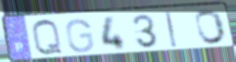3: (132, 13, 158, 50)
4: (99, 15, 129, 52)
G: (64, 18, 96, 54)
I: (164, 11, 179, 49)
O: (194, 8, 228, 46)
Q: (30, 18, 66, 58)
